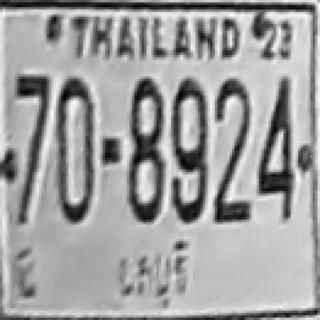N00: (170, 76, 206, 167), (214, 78, 250, 161)
P13: (110, 242, 197, 312)
